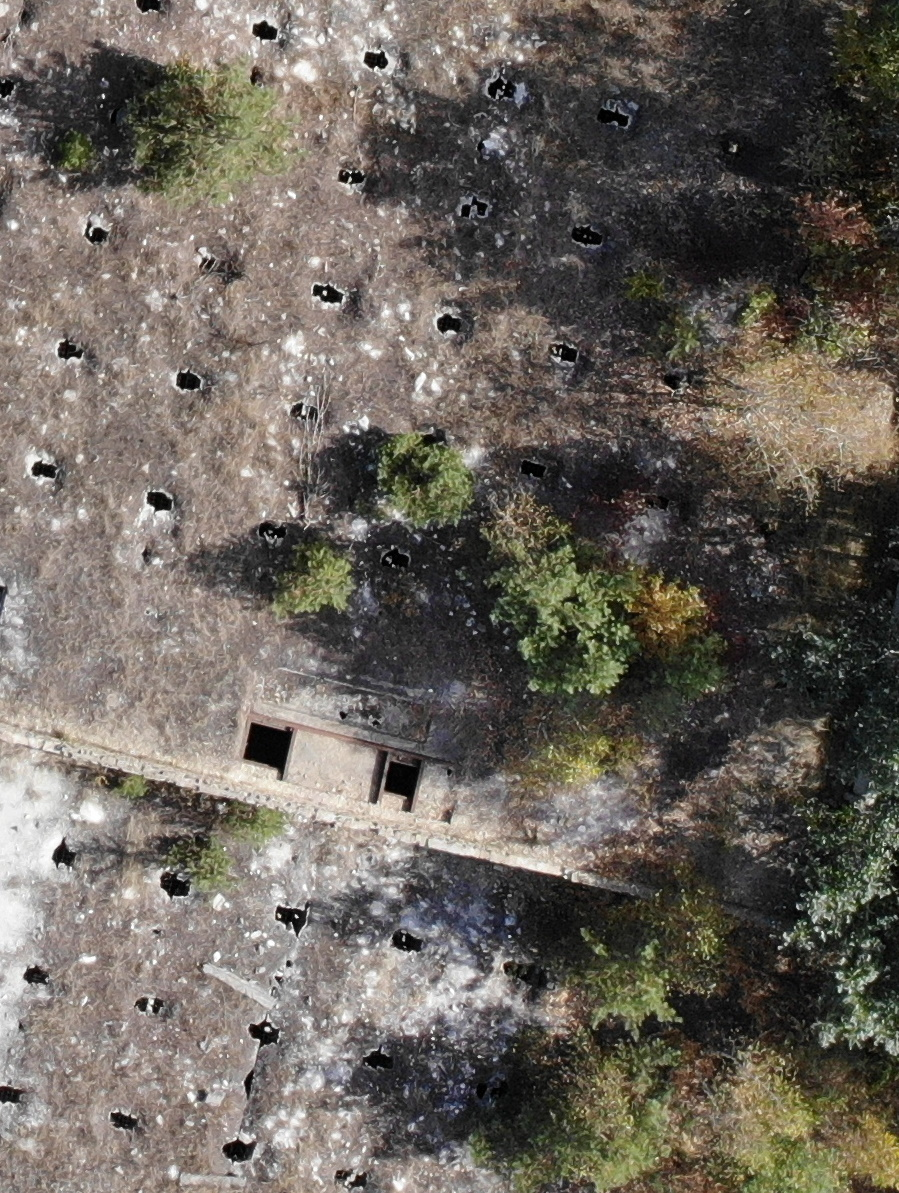tree: (658, 285, 889, 542), (118, 53, 317, 249), (533, 840, 725, 1035), (474, 1001, 670, 1180), (691, 1016, 890, 1188), (765, 777, 893, 1019), (228, 473, 390, 658), (505, 507, 634, 739), (613, 563, 741, 730), (156, 755, 290, 909), (341, 399, 471, 552), (37, 106, 101, 209)
